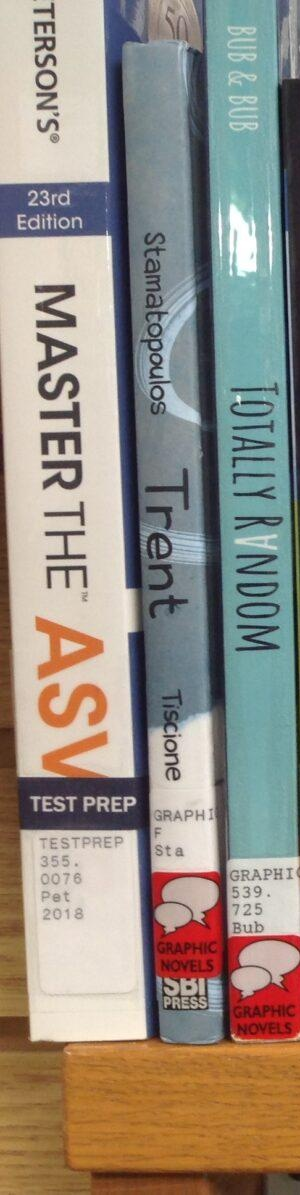call_number: (26, 830, 133, 994), (147, 776, 217, 872), (228, 858, 299, 936)
